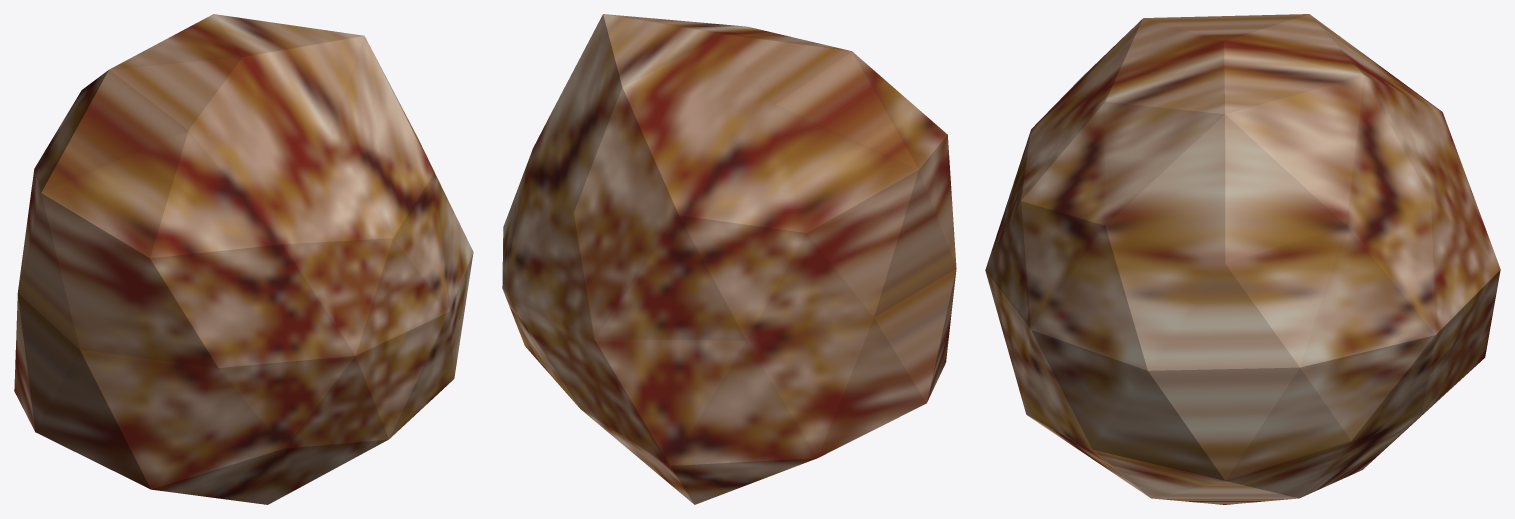
File: MeatCut.fbx
3 renders of one model, left to right at view 1: azimuth 30°, elevation 25°; view 2: azimuth 150°, elevation 25°; view 3: azimuth 270°, elevation 25°, orthographic. The views are drawn at different scales.
Visible parts, largest first — view 1: Икосфера; view 2: Икосфера; view 3: Икосфера.
Boxes of the visible parts, x1,y1,x2,y2 form: Икосфера: (14, 14, 473, 504); Икосфера: (502, 14, 956, 504); Икосфера: (985, 14, 1500, 504).
Bounding box in the file's own units: 205 × 213 × 215.
